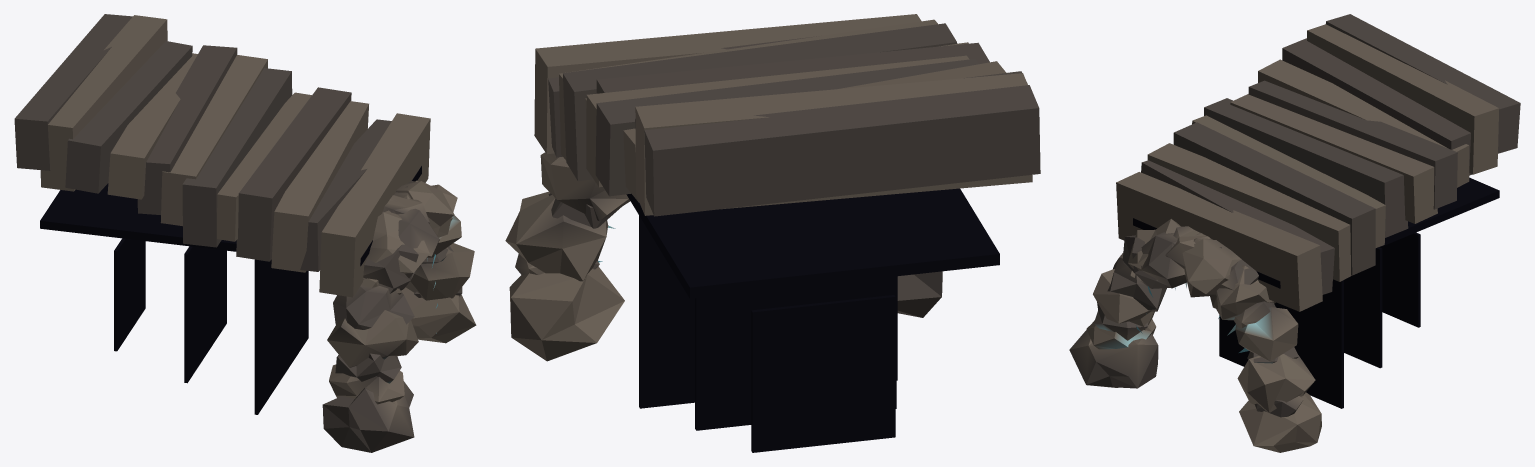
File: coast_glasswyrm_cavern_lod1.glb
3 views of the same model, side by side, from view 1: azimuth 30°, elevation 25°; view 2: azimuth 150°, elevation 25°; view 3: azimuth 270°, elevation 25° (orthographic). The views are drawn at different scales.
Parts seen in each view (by area): view 1: geometry_0; view 2: geometry_0; view 3: geometry_0.
Boxes of the visible parts, x1=… form: geometry_0: x1=14, y1=14, x2=476, y2=452; geometry_0: x1=505, y1=14, x2=1040, y2=452; geometry_0: x1=1069, y1=14, x2=1520, y2=452.
Bounding box in the file's own units: 54.58 × 37 × 55.81.
